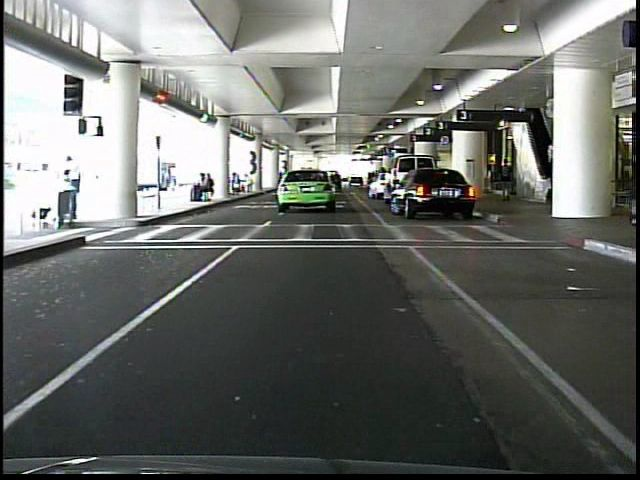person: (57, 153, 90, 230), (498, 158, 515, 205)
